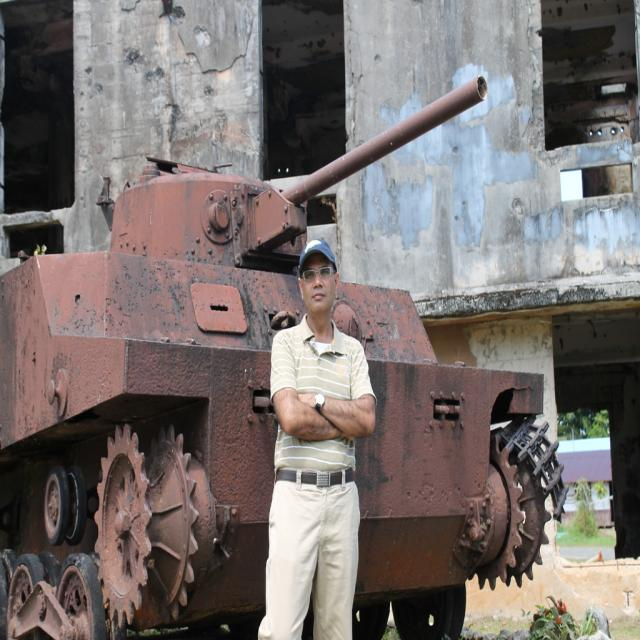tank: (0, 68, 568, 639)
